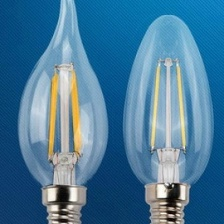light_bulb: (14, 0, 114, 224), (121, 9, 216, 223)
